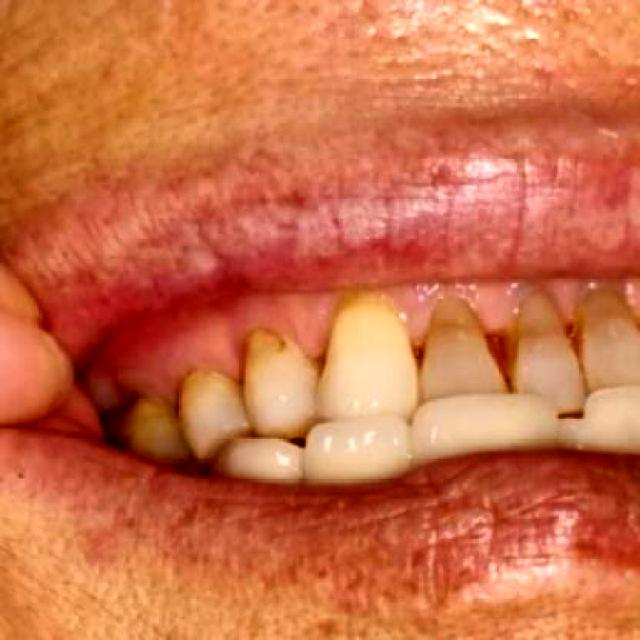Plaque: (463, 287, 522, 329)
